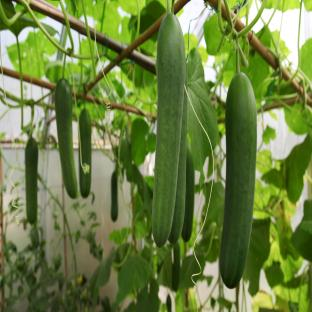Cucumber: (220, 73, 256, 288), (152, 14, 185, 247), (169, 90, 187, 244), (55, 79, 77, 198), (182, 142, 194, 241), (25, 137, 38, 224), (79, 109, 91, 197), (172, 241, 180, 292), (111, 171, 118, 221), (167, 295, 171, 311)
